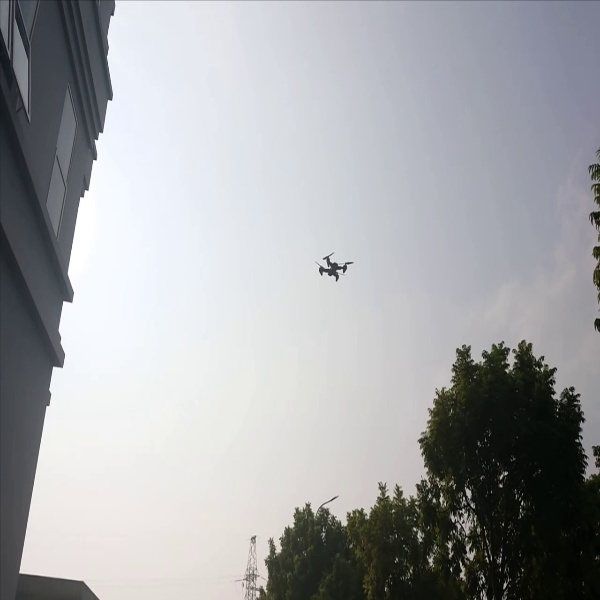drone: (310, 249, 357, 290)
